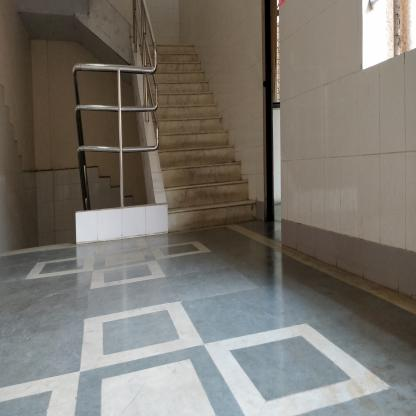stairs: (169, 124, 233, 239)
